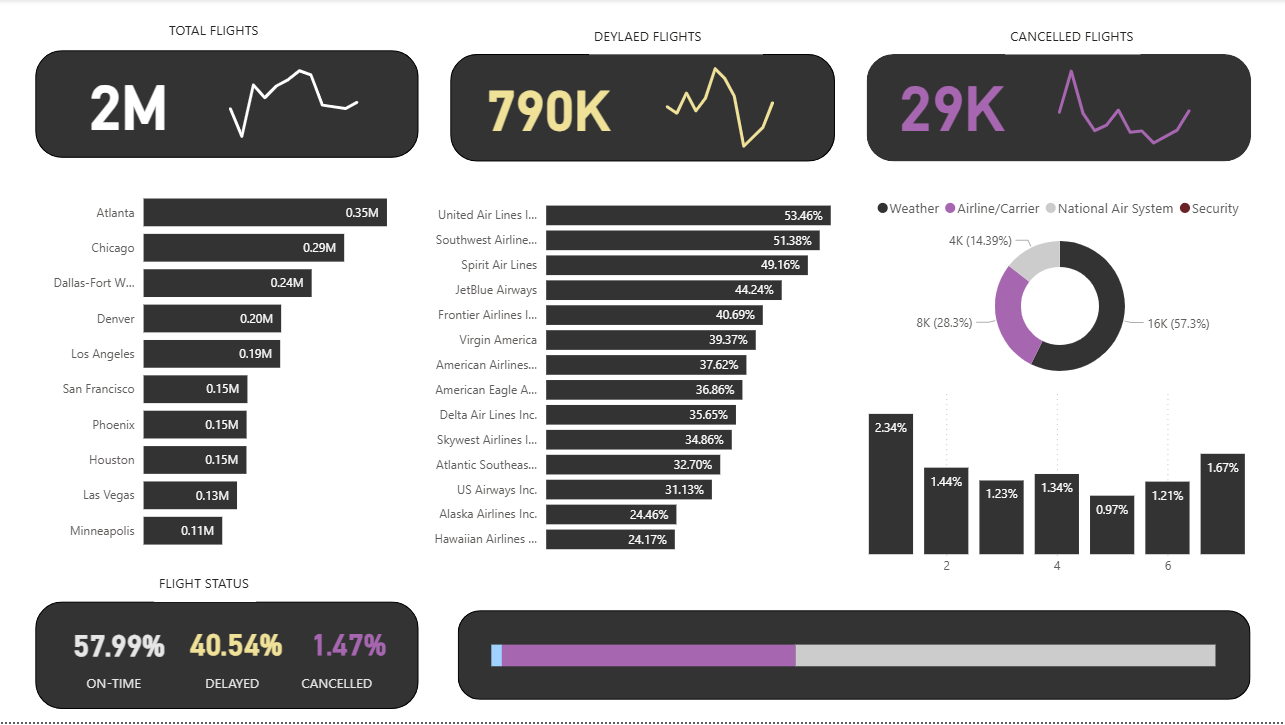

The dashboard page shown, as its layout file describes it:
{"tool":"powerbi","page":{"name":"flight status dashboard","canvas":[1280,720],"ordinal":0},"visuals":[{"type":"shape","box":[35.7,599.7,381.5,107],"z":0},{"type":"textbox","box":[153.7,566.7,101.5,32.9],"z":1000},{"type":"shape","box":[35.7,50.8,381.5,107],"z":2000},{"type":"textbox","box":[164.7,16.5,123.5,32.9],"z":3000},{"type":"shape","box":[448.7,54.9,382.8,107],"z":4000},{"type":"shape","box":[863.1,54.9,382.8,107],"z":5000},{"type":"textbox","box":[587.3,22,172.9,32.9],"z":6000},{"type":"textbox","box":[1001.7,22,134.5,32.9],"z":7000},{"type":"shape","box":[456.9,607.9,789,89.2],"z":8000},{"type":"card","fields":{"Values":["flights.Total Flights"]},"box":[53.5,49.4,150.9,100.2],"z":9000},{"type":"lineChart","fields":{"Category":["flights.MONTH"],"Y":["flights.Total Flights"]},"box":[204.5,39.8,201.7,133.1],"z":10000},{"type":"card","fields":{"Values":["flights.Delayed flights"]},"box":[476.2,54.9,140,100.2],"z":11000},{"type":"lineChart","fields":{"Category":["flights.MONTH"],"Y":["flights.Delayed flights"]},"box":[640.8,52.1,172.9,104.3],"z":12000},{"type":"card","fields":{"Values":["flights.Cancelled flights"]},"box":[878.2,50.8,140,100.2],"z":13000},{"type":"lineChart","fields":{"Category":["flights.MONTH"],"Y":["flights.Cancelled flights"]},"box":[1029.2,38.4,205.8,119.4],"z":14000},{"type":"card","fields":{"Values":["flights.% On-Time"]},"box":[67.2,607.9,104.3,67.2],"z":15000},{"type":"textbox","box":[82.3,666.9,72.7,31.6],"z":16000},{"type":"textbox","box":[200.3,666.9,72.7,31.6],"z":17000},{"type":"textbox","box":[296.4,666.9,89.2,31.6],"z":18000},{"type":"card","fields":{"Values":["flights.% Delayed"]},"box":[183.9,603.8,104.3,75.5],"z":19000},{"type":"card","fields":{"Values":["flights.% Cancelled"]},"box":[296.4,603.8,104.3,75.5],"z":20000},{"type":"clusteredBarChart","fields":{"Category":["airports.CITY"],"Y":["flights.Total Flights"]},"box":[35.7,171.5,381.5,391.1],"z":21000},{"type":"clusteredBarChart","fields":{"Y":["flights.% Delayed"],"Category":["airlines.AIRLINE"]},"box":[417.2,182.5,461.1,380.1],"z":22000},{"type":"donutChart","fields":{"Category":["cancellation_codes.CANCELLATION_DESCRIPTION"],"Y":["flights.Cancelled flights"]},"box":[864.5,188,382.8,205.8],"z":23000},{"type":"columnChart","fields":{"Category":["flights.DAY_OF_WEEK"],"Y":["flights.% Cancelled"]},"box":[860.4,377.4,384.2,205.8],"z":24000},{"type":"barChart","fields":{"Y":["flights.Total Flights"],"Series":["flights.Status"]},"box":[485.8,601,749.2,98.8],"z":25000}]}

Visuals, with their boxes in screenshot pixels (x1, y1, x2, y2), scaled from the page's 1280x720 canvas onto the 1285x725 screenshot:
shape: left=36, top=604, right=419, bottom=712
textbox: left=154, top=571, right=256, bottom=604
shape: left=36, top=51, right=419, bottom=159
textbox: left=165, top=17, right=289, bottom=50
shape: left=450, top=55, right=835, bottom=163
shape: left=866, top=55, right=1251, bottom=163
textbox: left=590, top=22, right=763, bottom=55
textbox: left=1006, top=22, right=1141, bottom=55
shape: left=459, top=612, right=1251, bottom=702
card - flights.Total Flights: left=54, top=50, right=205, bottom=151
lineChart - flights.MONTH x flights.Total Flights: left=205, top=40, right=408, bottom=174
card - flights.Delayed flights: left=478, top=55, right=619, bottom=156
lineChart - flights.MONTH x flights.Delayed flights: left=643, top=52, right=817, bottom=157
card - flights.Cancelled flights: left=882, top=51, right=1022, bottom=152
lineChart - flights.MONTH x flights.Cancelled flights: left=1033, top=39, right=1240, bottom=159
card - flights.% On-Time: left=67, top=612, right=172, bottom=680
textbox: left=83, top=672, right=156, bottom=703
textbox: left=201, top=672, right=274, bottom=703
textbox: left=298, top=672, right=387, bottom=703
card - flights.% Delayed: left=185, top=608, right=289, bottom=684
card - flights.% Cancelled: left=298, top=608, right=402, bottom=684
clusteredBarChart - airports.CITY x flights.Total Flights: left=36, top=173, right=419, bottom=567
clusteredBarChart - flights.% Delayed x airlines.AIRLINE: left=419, top=184, right=882, bottom=567
donutChart - cancellation_codes.CANCELLATION_DESCRIPTION x flights.Cancelled flights: left=868, top=189, right=1252, bottom=397
columnChart - flights.DAY_OF_WEEK x flights.% Cancelled: left=864, top=380, right=1249, bottom=587
barChart - flights.Total Flights x flights.Status: left=488, top=605, right=1240, bottom=705
